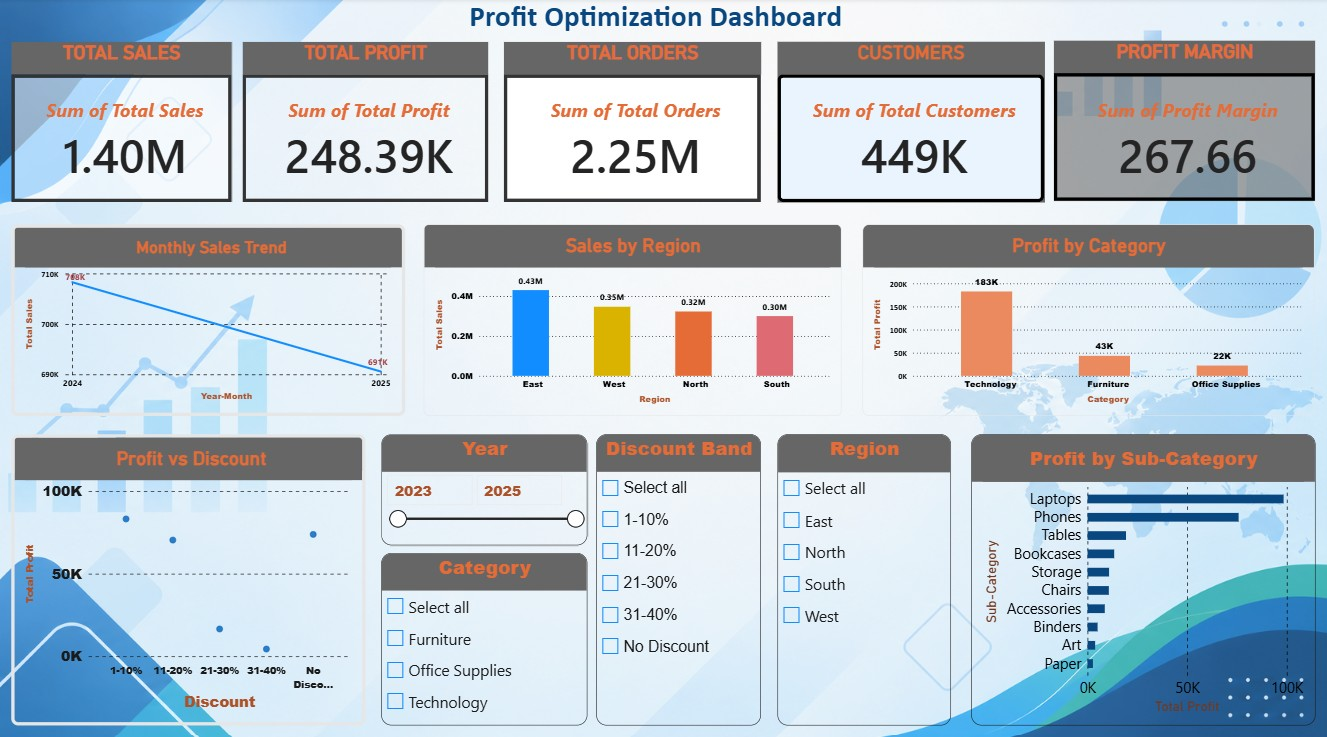

Layout of this report page (visuals, bound fields, positions):
{"tool":"powerbi","page":{"name":"Page 1","canvas":[1920,1080],"ordinal":0},"visuals":[{"type":"cardVisual","title":"TOTAL SALES","fields":{"Data":["Sum(SalesData.Total Sales)"]},"box":[16.5,63.8,319,232.6],"z":0},{"type":"cardVisual","title":"TOTAL PROFIT ","fields":{"Data":["Sum(SalesData.Total Profit)"]},"box":[351.7,63.3,356.1,232.6],"z":1000},{"type":"cardVisual","title":"TOTAL ORDERS","fields":{"Data":["Sum(SalesData.Total Orders)"]},"box":[730,63.3,372.6,232.6],"z":2000},{"type":"cardVisual","title":" CUSTOMERS","fields":{"Data":["Sum(SalesData.Total Customers)"]},"box":[1125,62.5,387,232.6],"z":3000},{"type":"cardVisual","title":"PROFIT MARGIN","fields":{"Data":["Sum(SalesData.Profit Margin)"]},"box":[1525.2,61.7,378.7,232.6],"z":4000},{"type":"lineChart","title":"Monthly Sales Trend","fields":{"Category":["SalesData.Year-Month.Variation.Date Hierarchy.Year","SalesData.Year-Month.Variation.Date Hierarchy.Quarter","SalesData.Year-Month.Variation.Date Hierarchy.Month","SalesData.Year-Month.Variation.Date Hierarchy.Day"],"Y":["Sum(SalesData.Total Sales)"]},"box":[16.5,327.3,570.2,277.9],"z":5000},{"type":"textbox","box":[10.4,887.5,285.4,191.7],"z":6000},{"type":"textbox","box":[10.4,0,1877.1,62.5],"z":7000},{"type":"clusteredColumnChart","title":"Sales by Region","fields":{"Category":["SalesData.Region"],"Y":["Sum(SalesData.Total Sales)"]},"box":[613.4,327.3,605.1,277.9],"z":8000},{"type":"clusteredColumnChart","title":"Profit by Category","fields":{"Y":["Sum(SalesData.Total Profit)"],"Category":["SalesData.Category"]},"box":[1249.4,327.3,654.5,277.9],"z":9000},{"type":"scatterChart","title":"Profit vs Discount","fields":{"X":["SalesData.Discount Band"],"Y":["Sum(SalesData.Total Profit)"]},"box":[16.5,631.9,512.5,422],"z":10000},{"type":"slicer","title":"Year","fields":{"Values":["SalesData.Year"]},"box":[551.6,631.9,298.5,160.5],"z":11000},{"type":"slicer","title":"Region","fields":{"Values":["SalesData.Region"]},"box":[1125.9,631.9,251.1,422],"z":12000},{"type":"slicer","title":"Discount Band","fields":{"Values":["SalesData.Discount Band"]},"box":[862.4,631.9,238.8,422],"z":13000},{"type":"slicer","title":"Category","fields":{"Values":["SalesData.Category"]},"box":[551.9,803.5,298.6,249.7],"z":14000},{"type":"clusteredBarChart","title":"Profit by Sub-Category","fields":{"Category":["SalesData.Sub-Category"],"Y":["Sum(SalesData.Total Profit)"]},"box":[1405.8,631.9,498.1,422],"z":15000}]}

Visuals, with their boxes in screenshot pixels (x1, y1, x2, y2), scaled from the page's 1920x1080 canvas onto the 1327x737 screenshot:
"TOTAL SALES" cardVisual: 11,44,232,202
"TOTAL PROFIT " cardVisual: 243,43,489,202
"TOTAL ORDERS" cardVisual: 505,43,762,202
" CUSTOMERS" cardVisual: 778,43,1045,201
"PROFIT MARGIN" cardVisual: 1054,42,1316,201
"Monthly Sales Trend" lineChart: 11,223,405,413
textbox: 7,606,204,736
textbox: 7,0,1305,43
"Sales by Region" clusteredColumnChart: 424,223,842,413
"Profit by Category" clusteredColumnChart: 864,223,1316,413
"Profit vs Discount" scatterChart: 11,431,366,719
"Year" slicer: 381,431,588,541
"Region" slicer: 778,431,952,719
"Discount Band" slicer: 596,431,761,719
"Category" slicer: 381,548,588,719
"Profit by Sub-Category" clusteredBarChart: 972,431,1316,719
